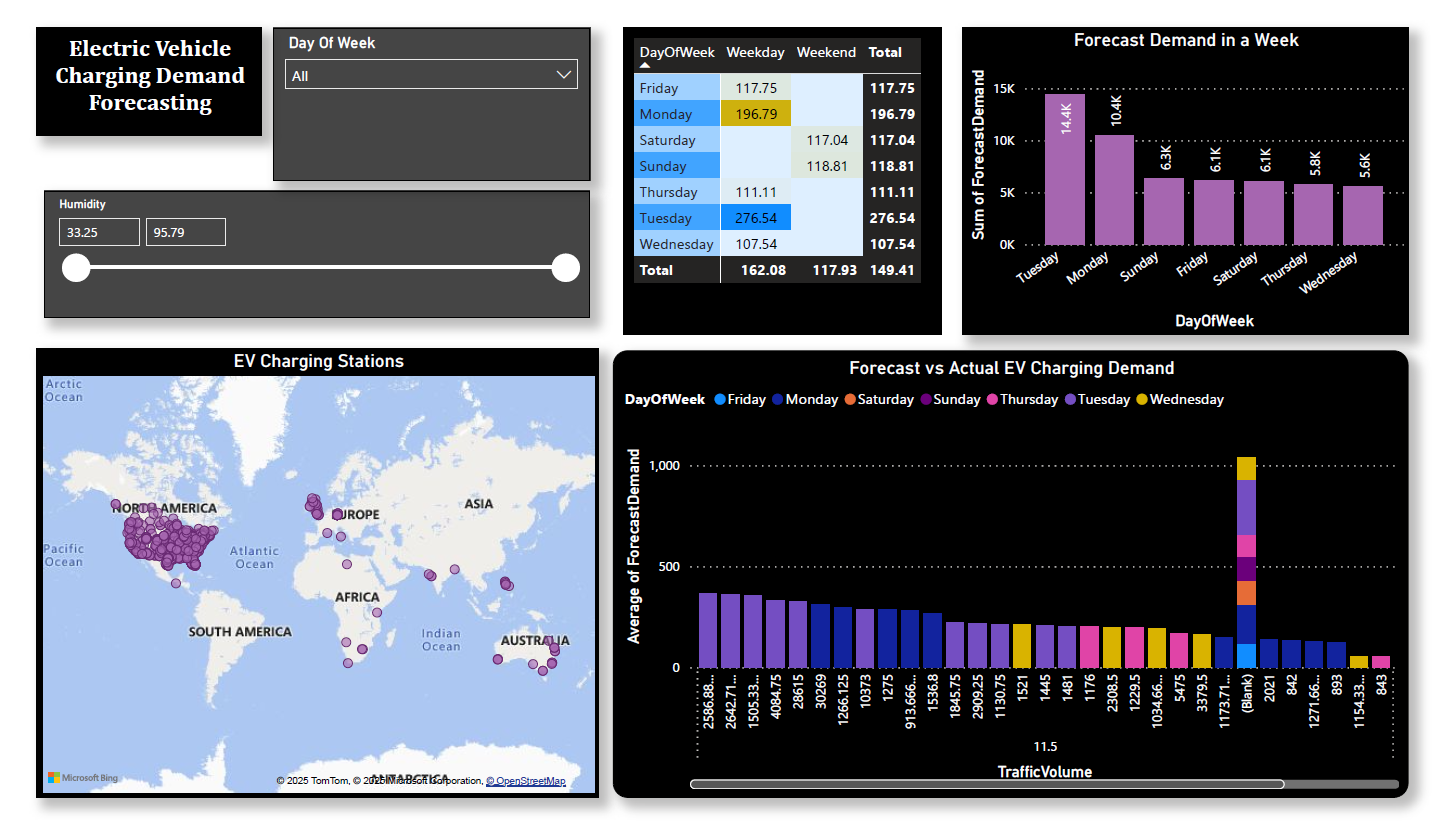

The page's visual inventory and layout, read from the dashboard file:
{"tool":"powerbi","page":{"name":"Page 1","canvas":[1280,720],"ordinal":0},"visuals":[{"type":"pivotTable","fields":{"Rows":["tableau_ready_ev_forecast.DayOfWeek"],"Columns":["tableau_ready_ev_forecast.DayType"],"Values":["Avg(tableau_ready_ev_forecast.ForecastDemand)"]},"box":[556.4,10,292.7,282.7],"z":0},{"type":"lineStackedColumnComboChart","title":"Forecast vs Actual EV Charging Demand","fields":{"Category":["tableau_ready_ev_forecast.Hour","tableau_ready_ev_forecast.TrafficVolume"],"Y":["Avg(tableau_ready_ev_forecast.ForecastDemand)"],"Series":["tableau_ready_ev_forecast.DayOfWeek"]},"box":[546.4,307.1,734.5,412.9],"z":1},{"type":"slicer","fields":{"Values":["tableau_ready_ev_forecast.DayOfWeek"]},"box":[233.7,10,291.6,141.3],"z":2},{"type":"slicer","fields":{"Values":["tableau_ready_ev_forecast.Humidity"]},"box":[22.3,160.2,503,116.8],"z":3},{"type":"map","title":"EV Charging Stations","fields":{"Category":["Traffic_Count_Study_Area.24 HOUR VOLUME COUNT LOCATIONS"]},"box":[15.1,305.6,518.2,413.7],"z":4},{"type":"textbox","box":[15.6,10,207,99],"z":6},{"type":"clusteredColumnChart","title":"Forecast Demand in a Week","fields":{"Category":["tableau_ready_ev_forecast.DayOfWeek"],"Y":["Sum(tableau_ready_ev_forecast.ForecastDemand)"]},"box":[869.1,10,410.6,282.7],"z":7}]}

Visuals, with their boxes in screenshot pixels (x1, y1, x2, y2), scaled from the page's 1280x720 canvas onto the 1441x824 screenshot:
pivotTable - tableau_ready_ev_forecast.DayOfWeek x tableau_ready_ev_forecast.DayType: locate(626, 11, 956, 335)
"Forecast vs Actual EV Charging Demand" lineStackedColumnComboChart: locate(615, 351, 1440, 823)
slicer - tableau_ready_ev_forecast.DayOfWeek: locate(263, 11, 591, 173)
slicer - tableau_ready_ev_forecast.Humidity: locate(25, 183, 591, 317)
"EV Charging Stations" map: locate(17, 350, 600, 823)
textbox: locate(18, 11, 251, 125)
"Forecast Demand in a Week" clusteredColumnChart: locate(978, 11, 1440, 335)
